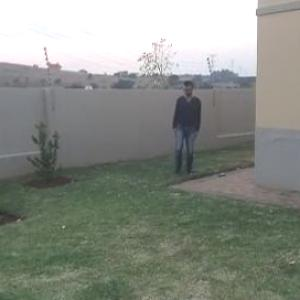follow: (171, 77, 205, 178)
